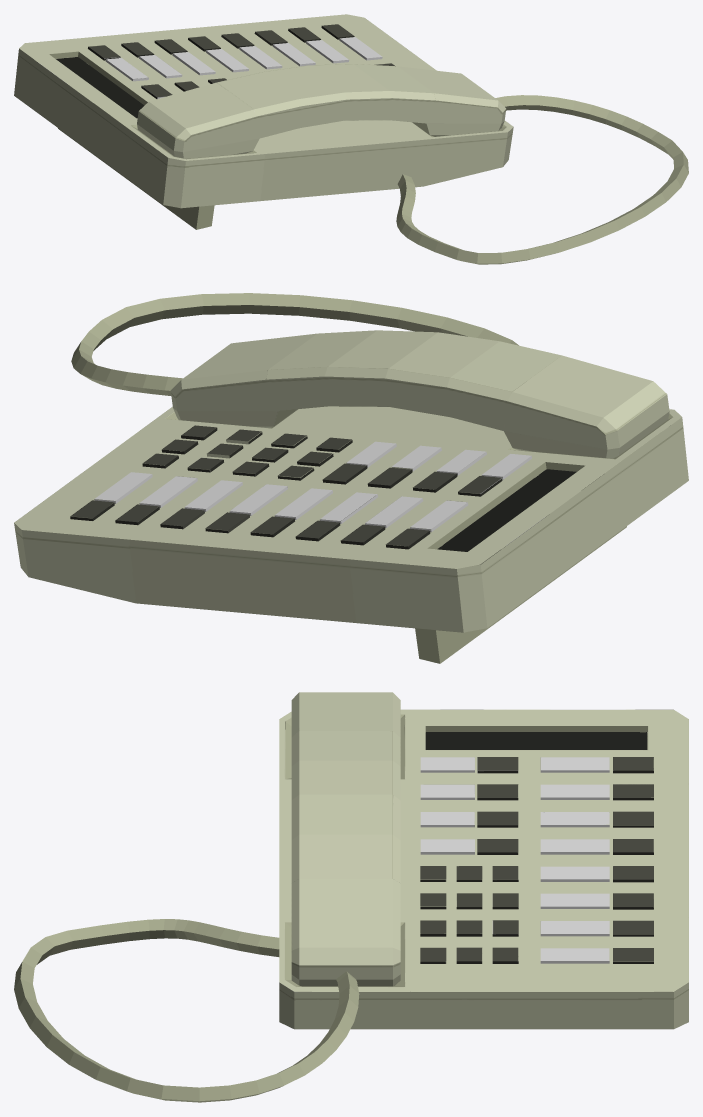
File: Office_Phone.fbx
The picture shows the model from 3 angles, top to bottom: view 1: azimuth 30°, elevation 25°; view 2: azimuth 150°, elevation 25°; view 3: azimuth 270°, elevation 25°; orthographic projection. The views are drawn at different scales.
Parts seen in each view (by area): view 1: BézierCurve; view 2: BézierCurve; view 3: BézierCurve.
Part boxes in pixels (x1,y1,x2,y2): BézierCurve: (14,14,688,264); BézierCurve: (14,293,688,663); BézierCurve: (14,692,688,1102).
Bounding box in the file's own units: 493 × 113 × 476.
